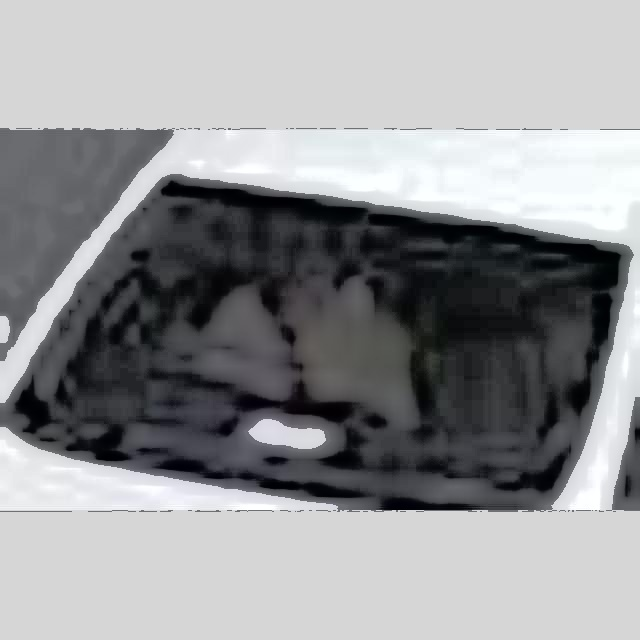pakai: (167, 223, 417, 436)
